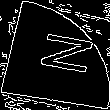N_W: (21, 30, 89, 80)
